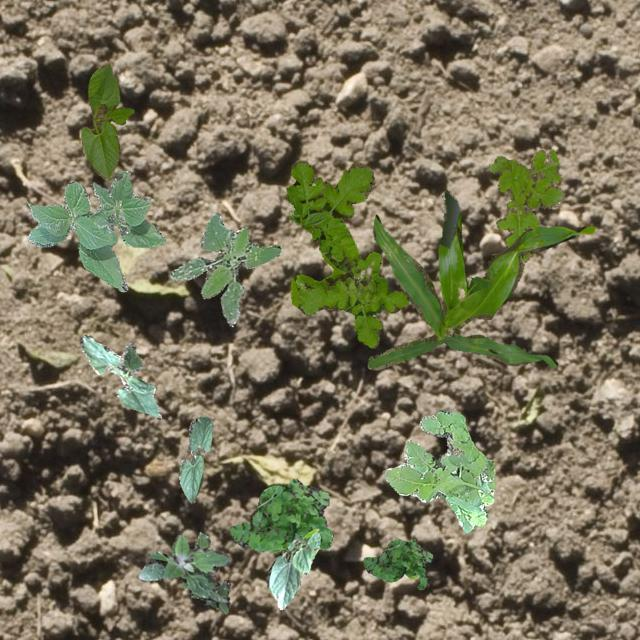crop: (366, 190, 594, 368), (27, 170, 165, 290), (80, 333, 160, 418), (80, 62, 132, 178), (266, 530, 320, 608), (178, 416, 212, 502)
weed: (286, 160, 408, 347), (382, 408, 494, 532), (170, 212, 280, 324), (488, 148, 564, 262), (230, 478, 332, 552), (138, 532, 230, 612), (362, 538, 432, 588)
